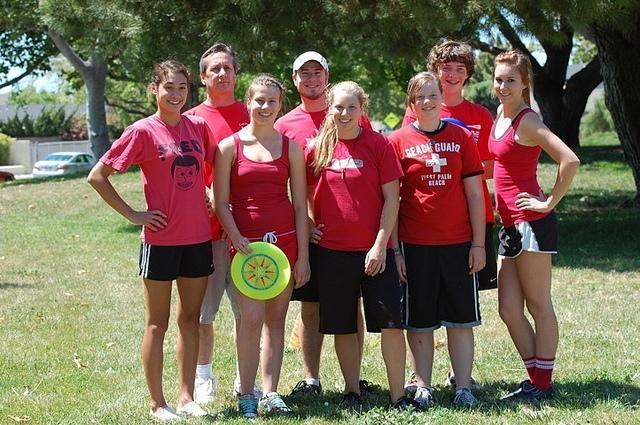car: (32, 152, 96, 179), (0, 170, 16, 182)
